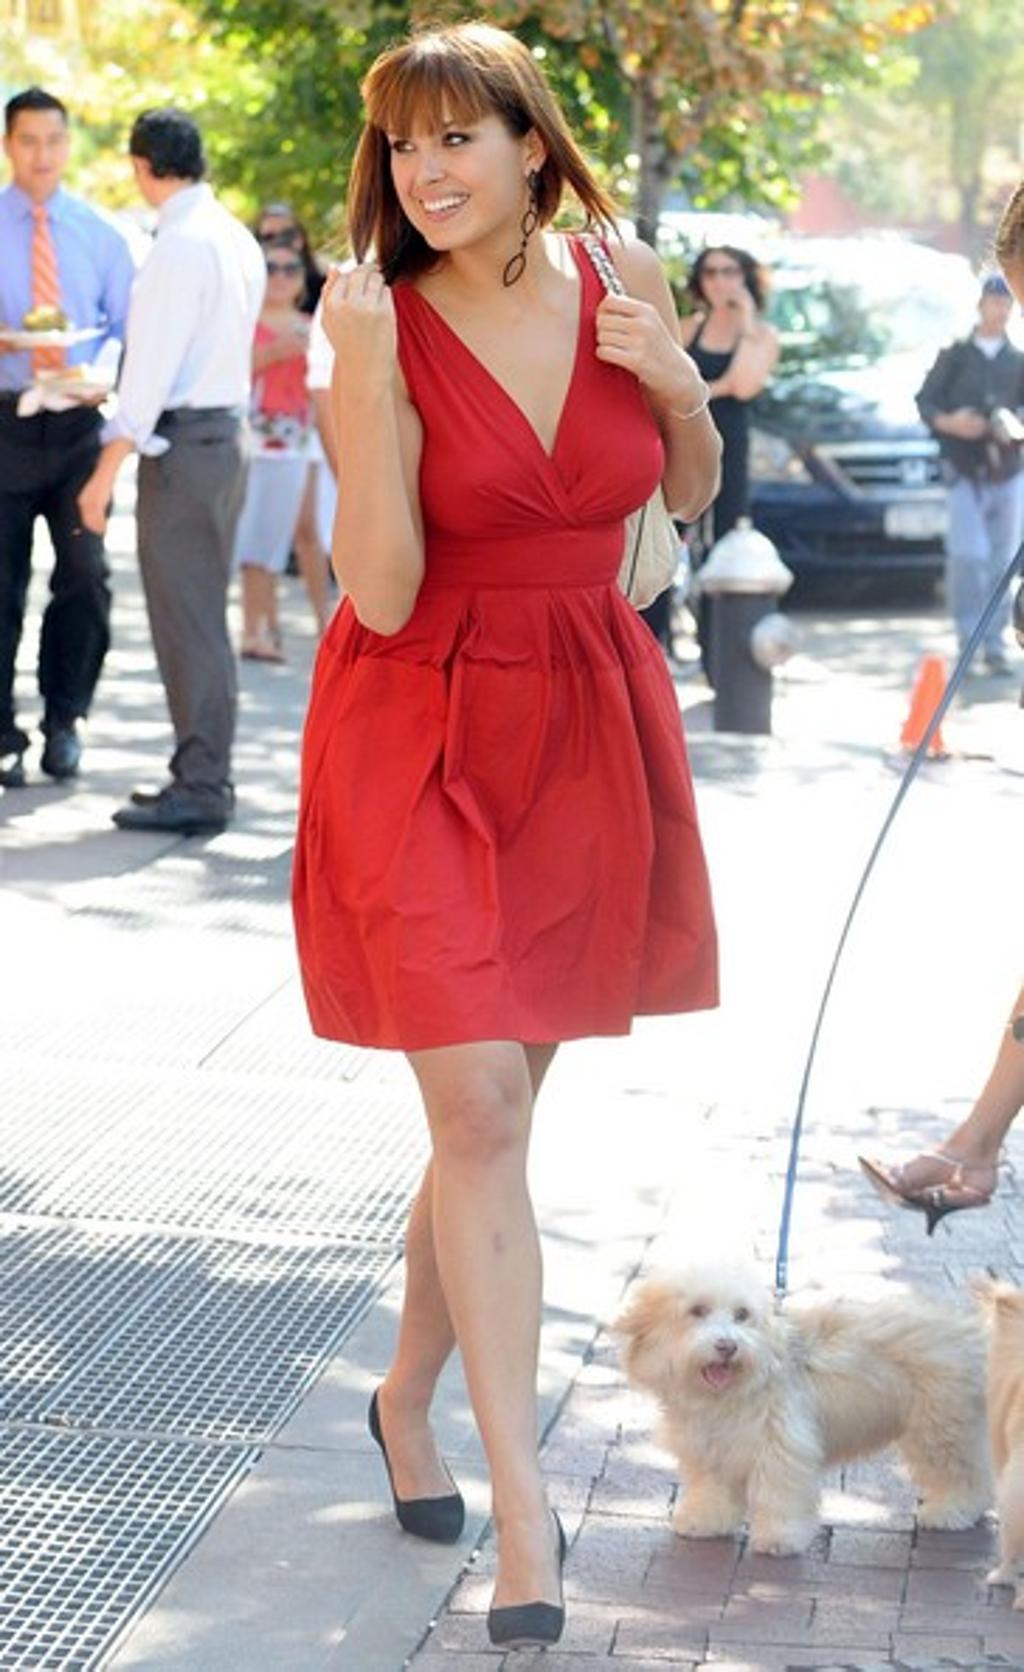face: (385, 99, 523, 250), (10, 117, 66, 187), (700, 256, 741, 302), (262, 254, 303, 299), (260, 224, 303, 266), (981, 296, 1011, 328)
